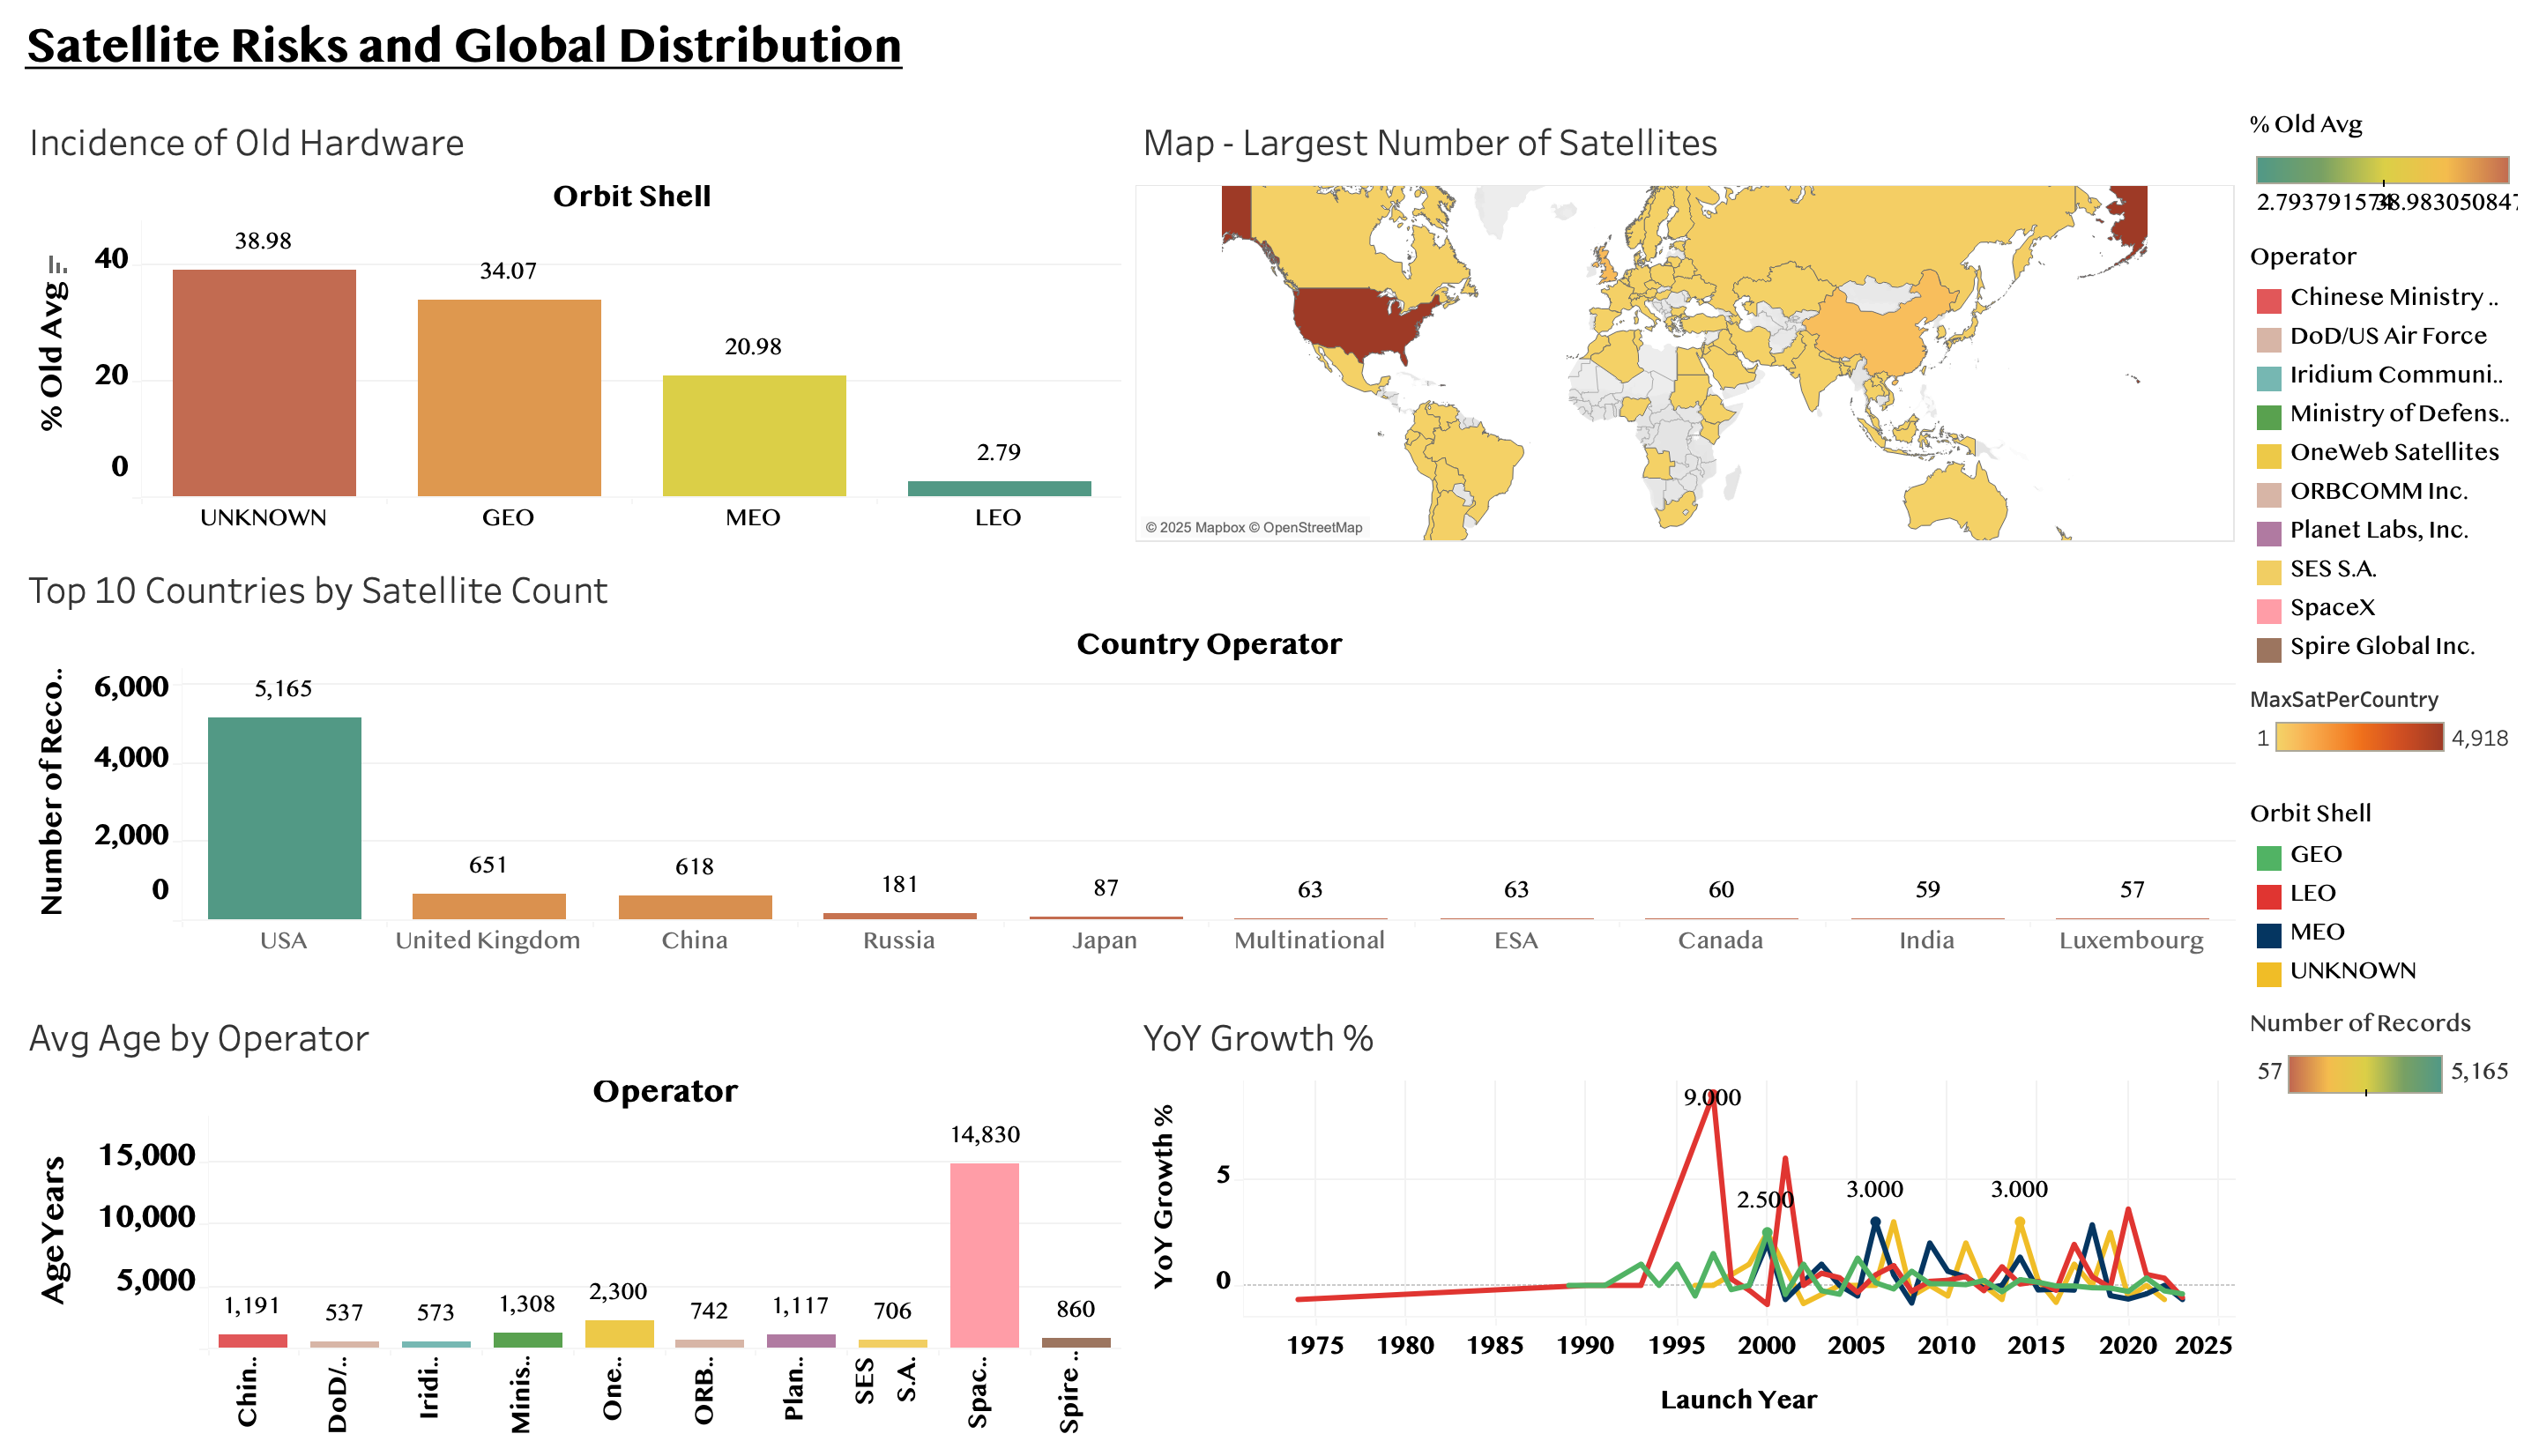

This screenshot's page, from the dashboard's own definition file:
{"tool":"tableau","page":{"name":"Risk and Geography","canvas":[1000,1000],"units":"permille","ordinal":1},"visuals":[{"type":"title","box":[6.5,10.4,987,67.7]},{"type":"worksheet","title":"Incidence of Old Hardware","mark":"Automatic","rows":["Calculation_107030912649412611"],"cols":["orbit_shell"],"box":[6.5,78.1,428.4,303.8]},{"type":"worksheet","title":"Map - Largest Number of Satellites","mark":"Multipolygon","box":[434.9,78.1,428.4,303.8]},{"type":"legend","title":"Incidence of Old Hardware","param":"[federated.0dgbmoq1wu2m491dzvqni1kmtzp2].[usr:Calculation_107030912649412611:qk]","box":[863.3,78.1,130.2,97.7]},{"type":"legend","title":"Avg Age by Operator","param":"[federated.0dgbmoq1wu2m491dzvqni1kmtzp2].[none:operator:nk]","box":[863.3,175.8,130.2,326.8]},{"type":"worksheet","title":"Top 10 Countries by Satellite Count","mark":"Automatic","rows":["Calculation_7015623109764026377"],"cols":["country_operator"],"box":[6.5,381.9,856.8,303.8]},{"type":"legend","title":"Map - Largest Number of Satellites","param":"[federated.0dgbmoq1wu2m491dzvqni1kmtzp2].[sum:Calculation_343680999346376705:qk]","box":[863.3,502.6,130.2,84.6]},{"type":"legend","title":"YoY Growth % ","param":"[federated.0dgbmoq1wu2m491dzvqni1kmtzp2].[none:orbit_shell:nk]","box":[863.3,587.3,130.2,155]},{"type":"worksheet","title":"Avg Age by Operator","mark":"Automatic","rows":["Calculation_7015623109754609665"],"cols":["operator"],"box":[6.5,685.8,428.4,303.8]},{"type":"worksheet","title":"YoY Growth % ","mark":"Automatic","rows":["Calculation_7015623109764743178"],"cols":["launch_year"],"box":[434.9,685.8,428.4,303.8]},{"type":"legend","title":"Top 10 Countries by Satellite Count","param":"[federated.0dgbmoq1wu2m491dzvqni1kmtzp2].[sum:Calculation_7015623109764026377:qk","box":[863.3,742.2,130.2,97.7]}]}

Visuals, with their boxes on the dashboard's canvas, which has no fixed pixel size, in thousandths of its width and height (x1, y1, x2, y2). These are canvas units, not pixel positions in the 2539x1456 screenshot, which may show the page scaled, cropped or inside an application window:
title: x1=6 y1=10 x2=994 y2=78
"Incidence of Old Hardware" worksheet: x1=6 y1=78 x2=435 y2=382
"Map - Largest Number of Satellites" worksheet (Multipolygon marks): x1=435 y1=78 x2=863 y2=382
"Incidence of Old Hardware" legend: x1=863 y1=78 x2=994 y2=176
"Avg Age by Operator" legend: x1=863 y1=176 x2=994 y2=503
"Top 10 Countries by Satellite Count" worksheet: x1=6 y1=382 x2=863 y2=686
"Map - Largest Number of Satellites" legend: x1=863 y1=503 x2=994 y2=587
"YoY Growth % " legend: x1=863 y1=587 x2=994 y2=742
"Avg Age by Operator" worksheet: x1=6 y1=686 x2=435 y2=990
"YoY Growth % " worksheet: x1=435 y1=686 x2=863 y2=990
"Top 10 Countries by Satellite Count" legend: x1=863 y1=742 x2=994 y2=840
